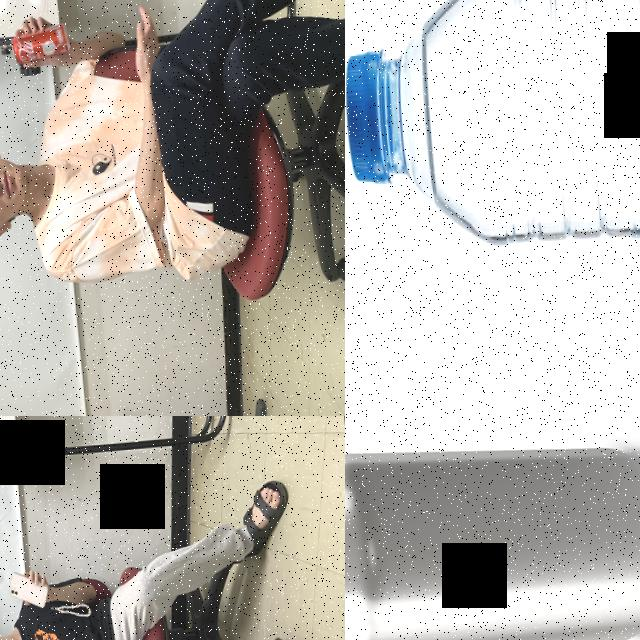bottle: (345, 0, 640, 258)
can: (345, 432, 640, 640), (9, 19, 72, 63)
